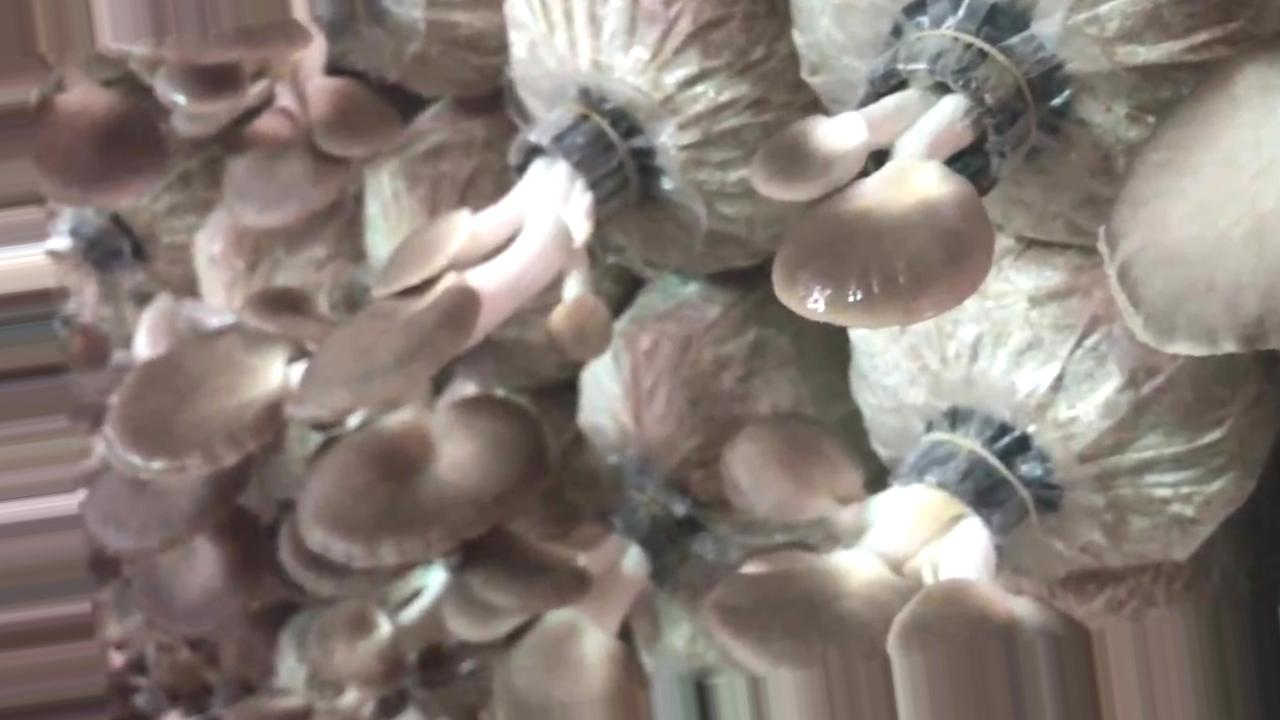nam: (300, 99, 666, 421), (696, 409, 1093, 687), (748, 6, 1045, 334), (1091, 41, 1280, 356), (439, 506, 685, 712), (99, 318, 320, 489)
